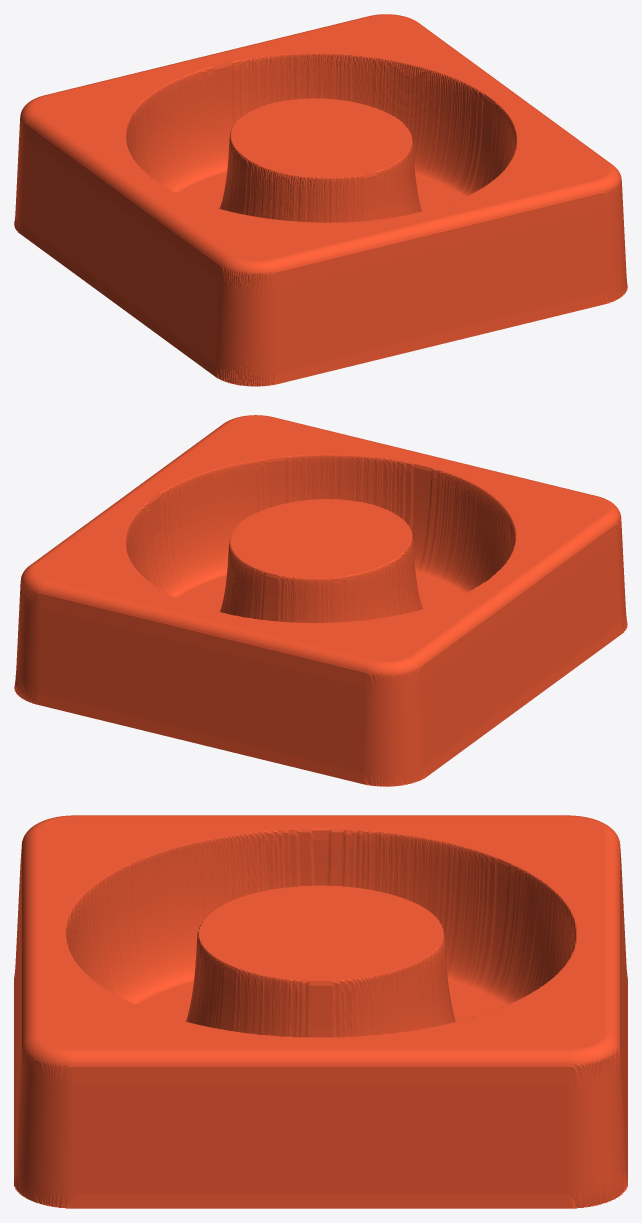
File: mold.glb
3 views of the same model, one above another, from view 1: azimuth 30°, elevation 25°; view 2: azimuth 150°, elevation 25°; view 3: azimuth 270°, elevation 25° (orthographic). The views are drawn at different scales.
Parts seen in each view (by area): view 1: geometry_0; view 2: geometry_0; view 3: geometry_0.
Boxes of the visible parts, <box> form: geometry_0: <box>14,14,627,386</box>; geometry_0: <box>14,415,627,786</box>; geometry_0: <box>14,815,627,1208</box>.
Size of the model in its own units: 0.0898 by 0.0248 by 0.0924.
